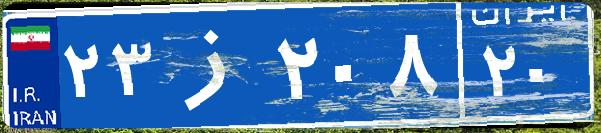0: (330, 28, 385, 110), (525, 38, 570, 115)
2: (273, 28, 330, 110), (57, 26, 110, 107), (475, 38, 525, 113)
3: (110, 28, 158, 105)
8: (385, 28, 445, 110)
ز: (158, 15, 273, 115)
